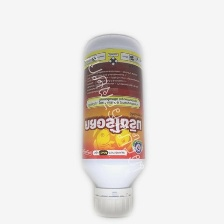insecticide: (74, 29, 148, 222)
